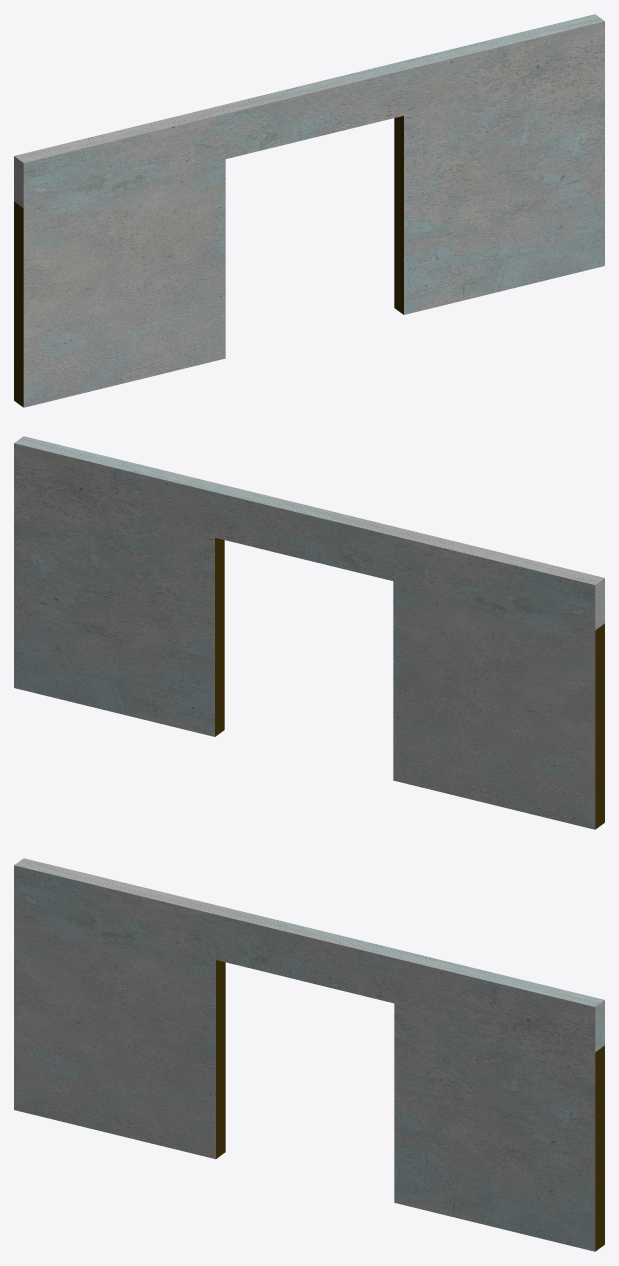
Rendered from Doorway.fbx.
3 views of the same model, one above another, from view 1: azimuth 30°, elevation 25°; view 2: azimuth 150°, elevation 25°; view 3: azimuth 330°, elevation 25° (orthographic).
Visible parts, largest first — view 1: Doorway; view 2: Doorway; view 3: Doorway.
Part boxes in pixels (box(x1,y1,x2,y2)): Doorway: box(14, 14, 604, 407); Doorway: box(14, 436, 604, 829); Doorway: box(14, 858, 604, 1251).
Size of the model in its own units: 23.78 by 9.56 by 0.6912.
1 material, 1 textured.
